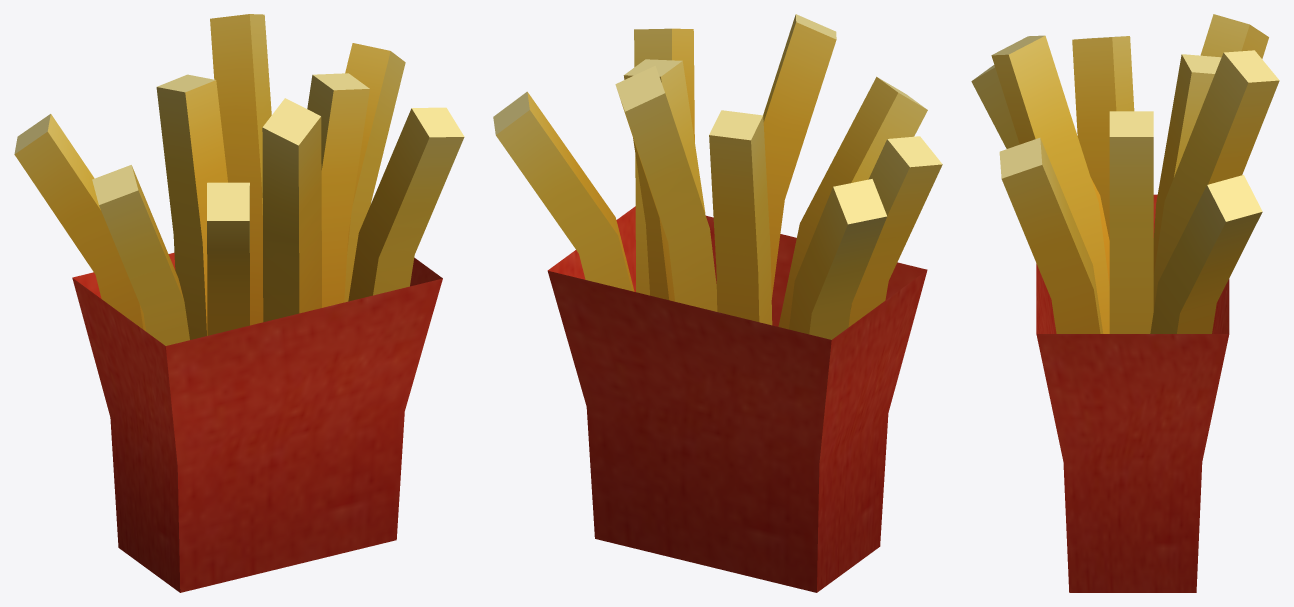
Rendered from Fries.fbx.
3 renders of one model, left to right at view 1: azimuth 30°, elevation 25°; view 2: azimuth 150°, elevation 25°; view 3: azimuth 270°, elevation 25°, orthographic. The views are drawn at different scales.
Visible parts, largest first — view 1: Fries; view 2: Fries; view 3: Fries.
Boxes of the visible parts, x1=… form: Fries: x1=14, y1=14, x2=464, y2=592; Fries: x1=493, y1=14, x2=942, y2=592; Fries: x1=971, y1=14, x2=1279, y2=592.
Bounding box in the file's own units: 161 × 194 × 107.
